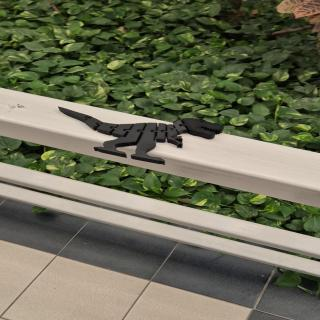dino: (57, 106, 224, 166)
